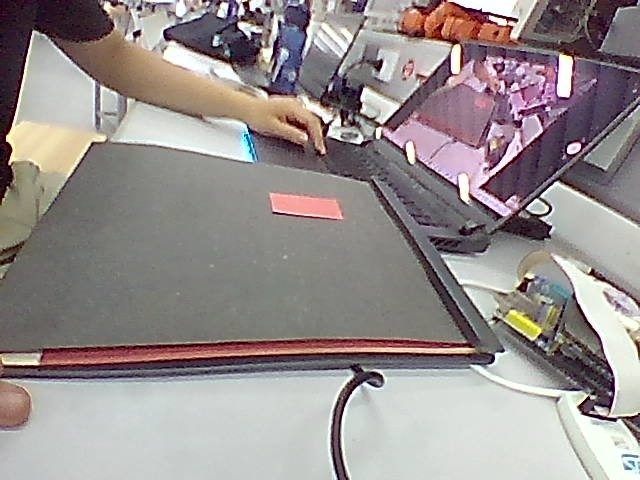card: (270, 192, 343, 218)
